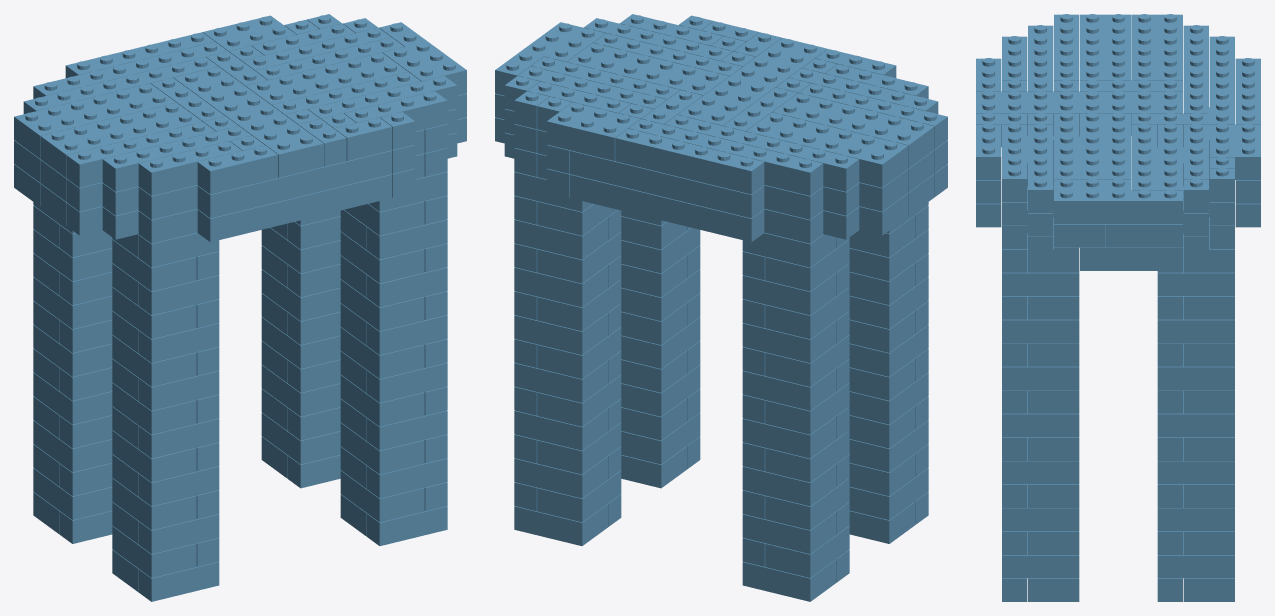
The model's file is 226_table_L1.glb.
3 views of the same model, side by side, from view 1: azimuth 30°, elevation 25°; view 2: azimuth 150°, elevation 25°; view 3: azimuth 270°, elevation 25° (orthographic).
Bounding box in the file's own units: 16.98 × 18.13 × 10.98.
